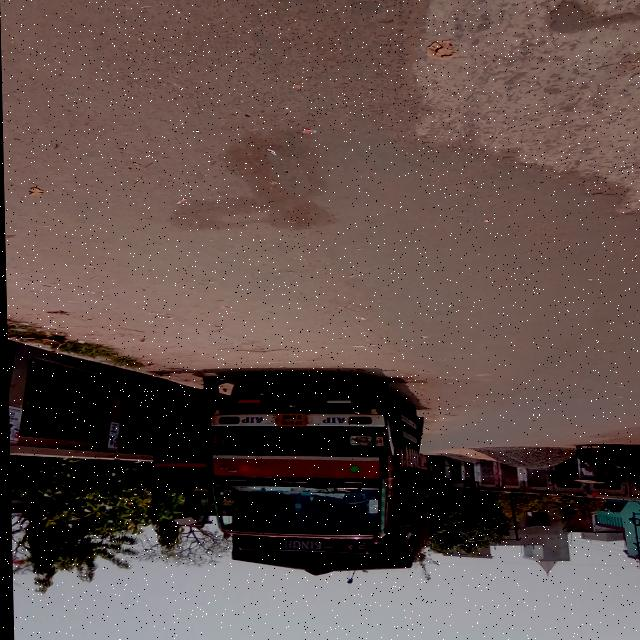plate: (274, 413, 306, 427)
